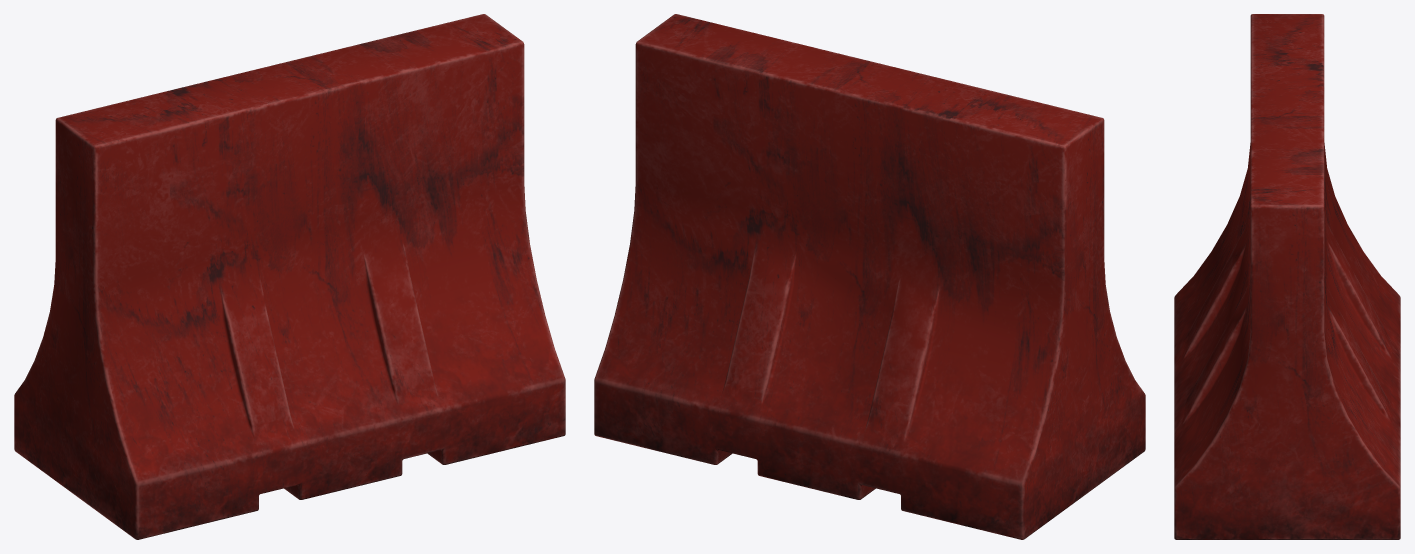
File: red-barrier.glb
The picture shows the model from 3 angles, left to right: view 1: azimuth 30°, elevation 25°; view 2: azimuth 150°, elevation 25°; view 3: azimuth 270°, elevation 25°; orthographic projection. The views are drawn at different scales.
Visible parts, largest first — view 1: red_barrier_mesh; view 2: red_barrier_mesh; view 3: red_barrier_mesh.
Part boxes in pixels (left/top/right/bottom): red_barrier_mesh: left=14, top=14, right=565, bottom=539; red_barrier_mesh: left=594, top=14, right=1145, bottom=539; red_barrier_mesh: left=1174, top=14, right=1400, bottom=539.
Bounding box in the file's own units: 2.63 × 2.12 × 1.3.
Materials: 1 (1 with a texture image).
